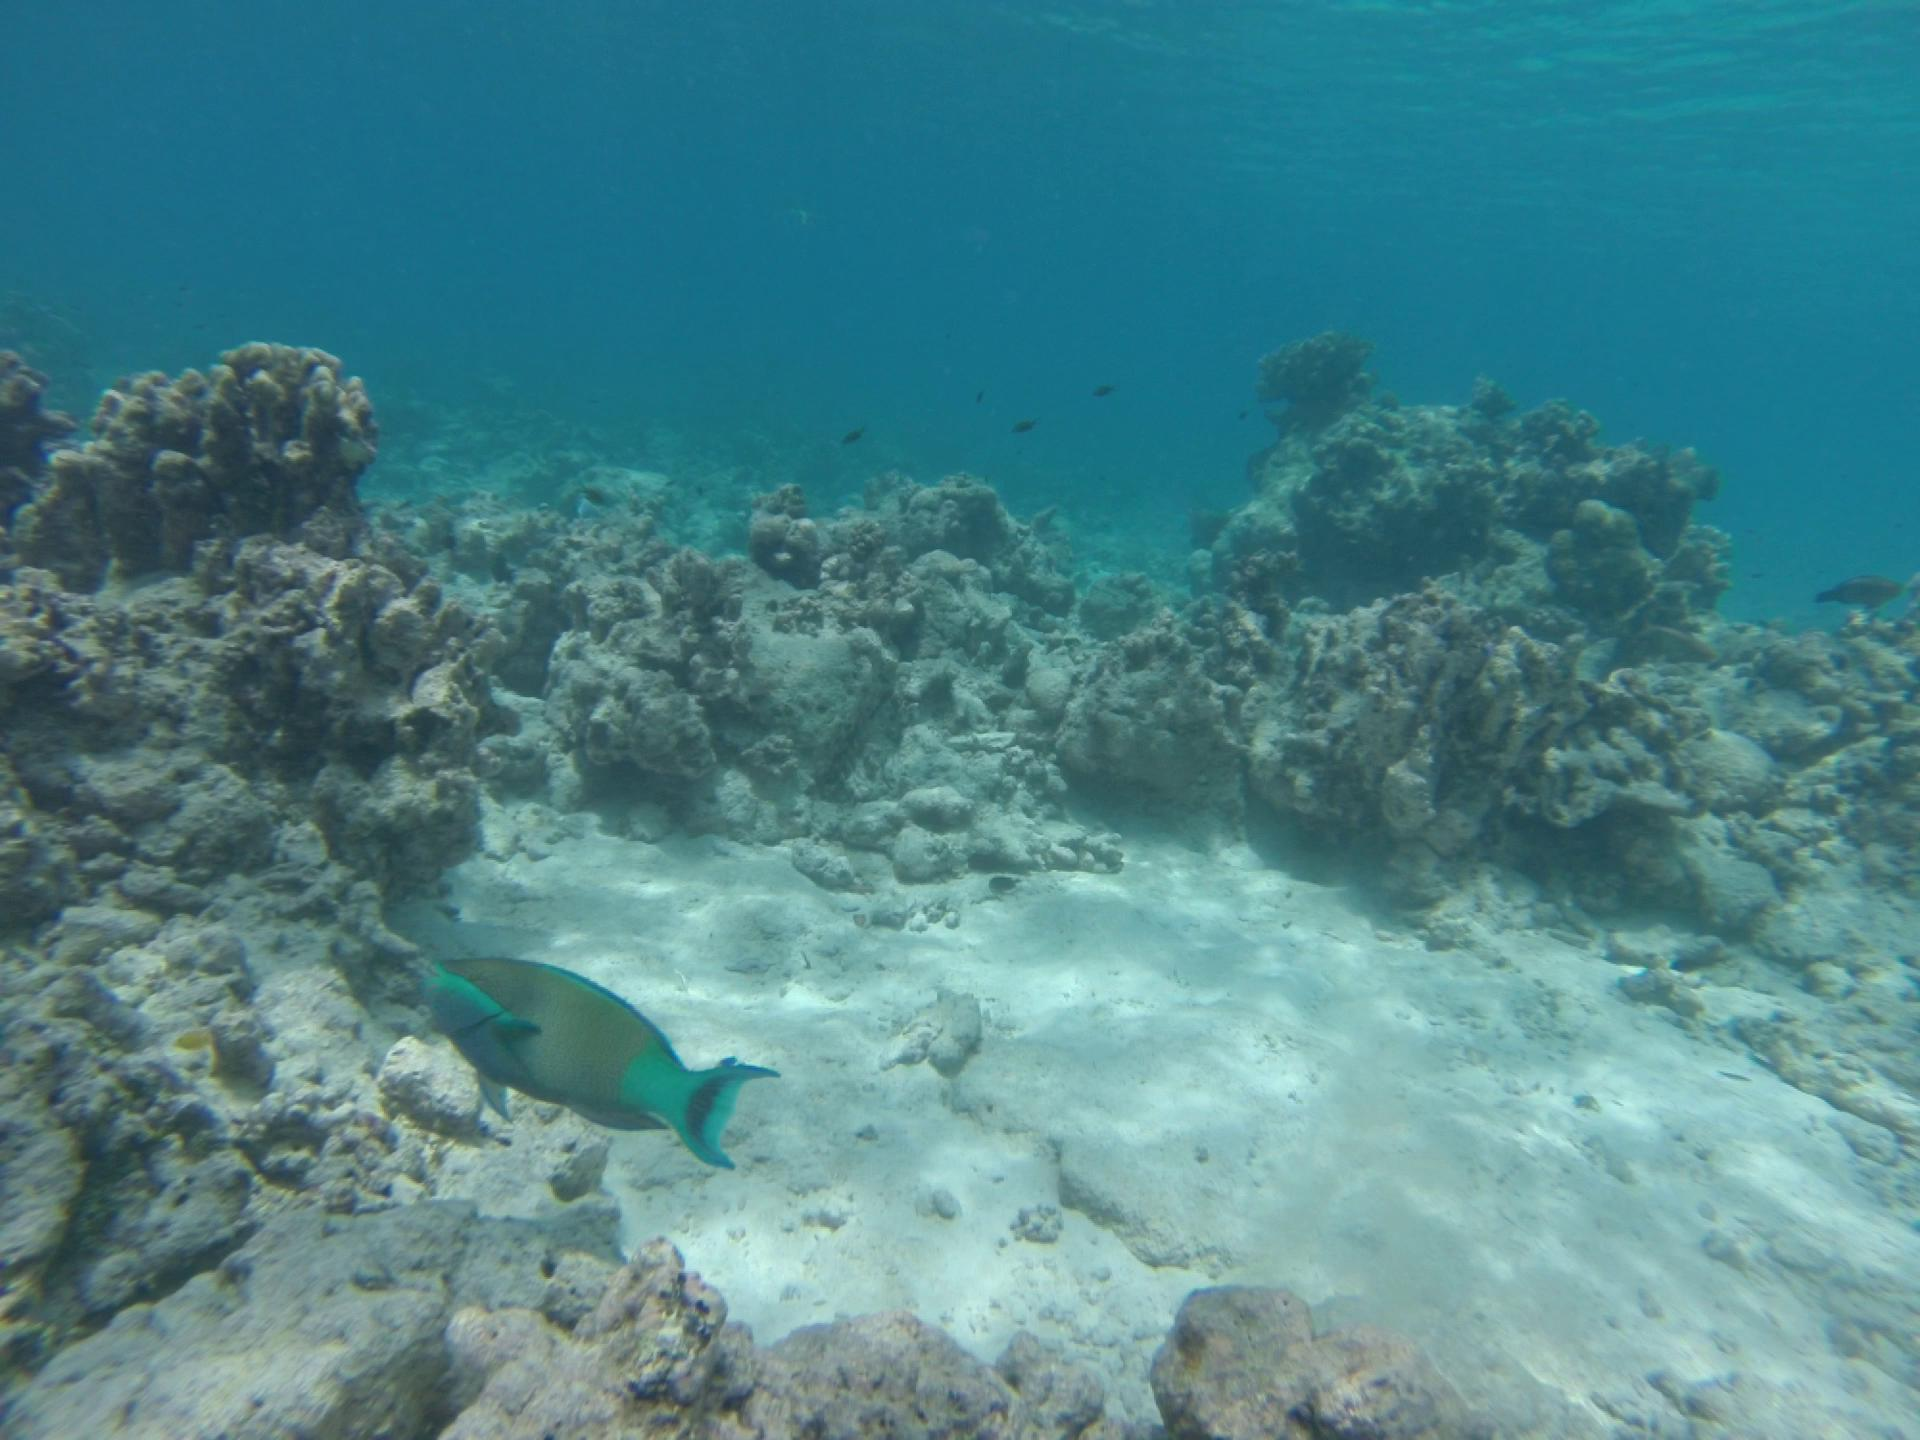Scarus ghobban: (314, 891, 892, 1230)
